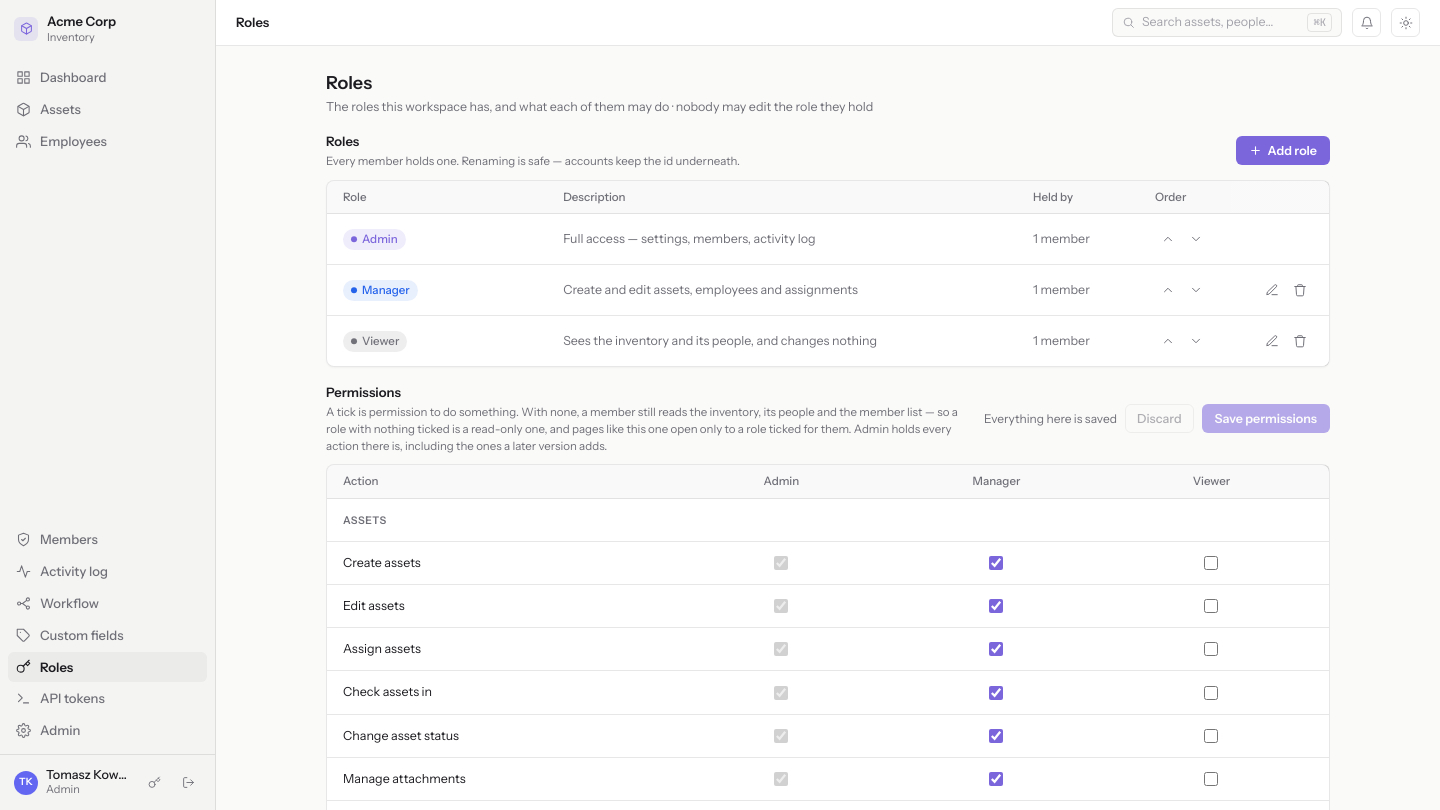
Test: the role form › puts the server’s complaint about a taken label under the field
The image size is (1440, 810).
Click the button "Add role" at (1283, 151), box [1236,136,1330,166]
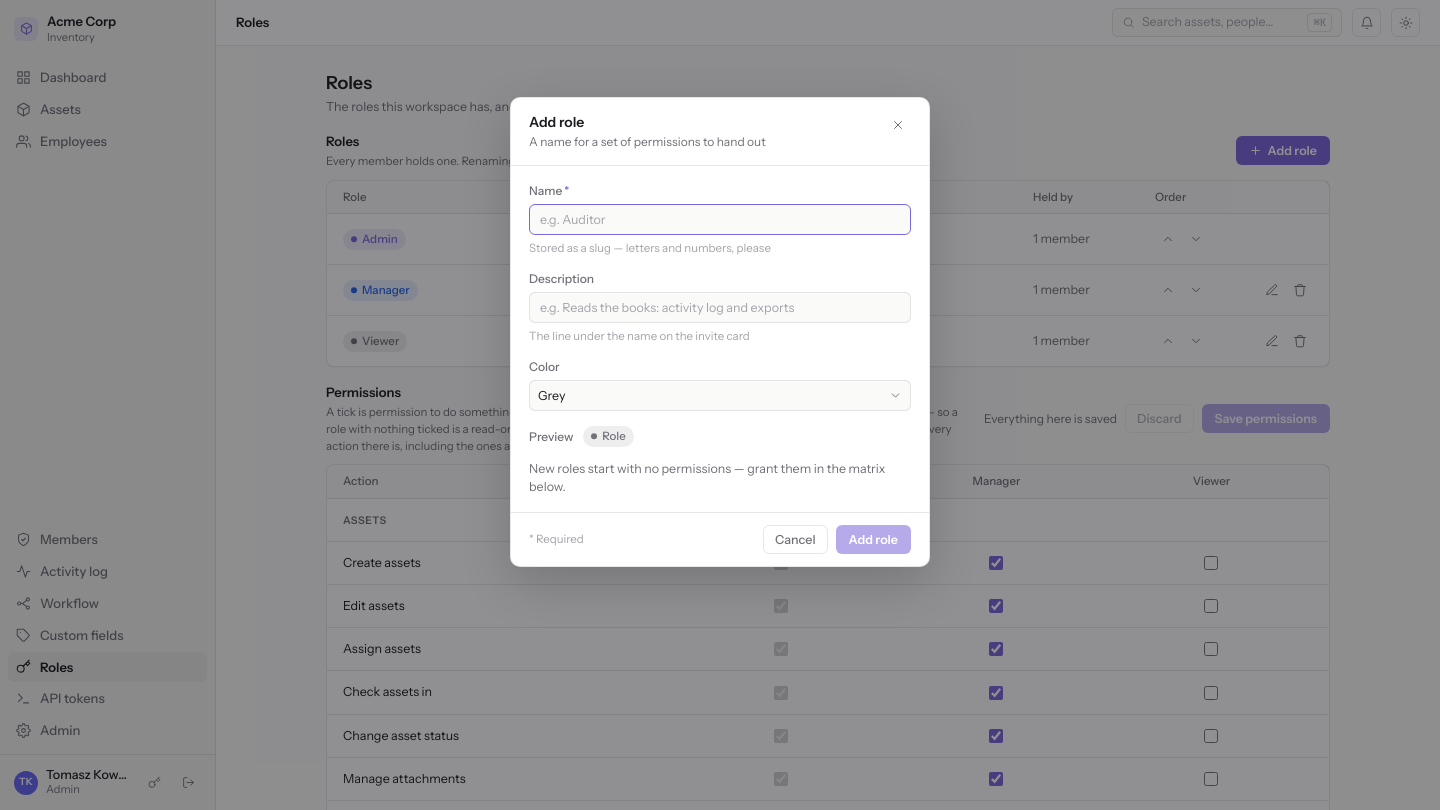
Type "Manager" into the field labelled "Name" at (720, 220), box [529,204,911,235]
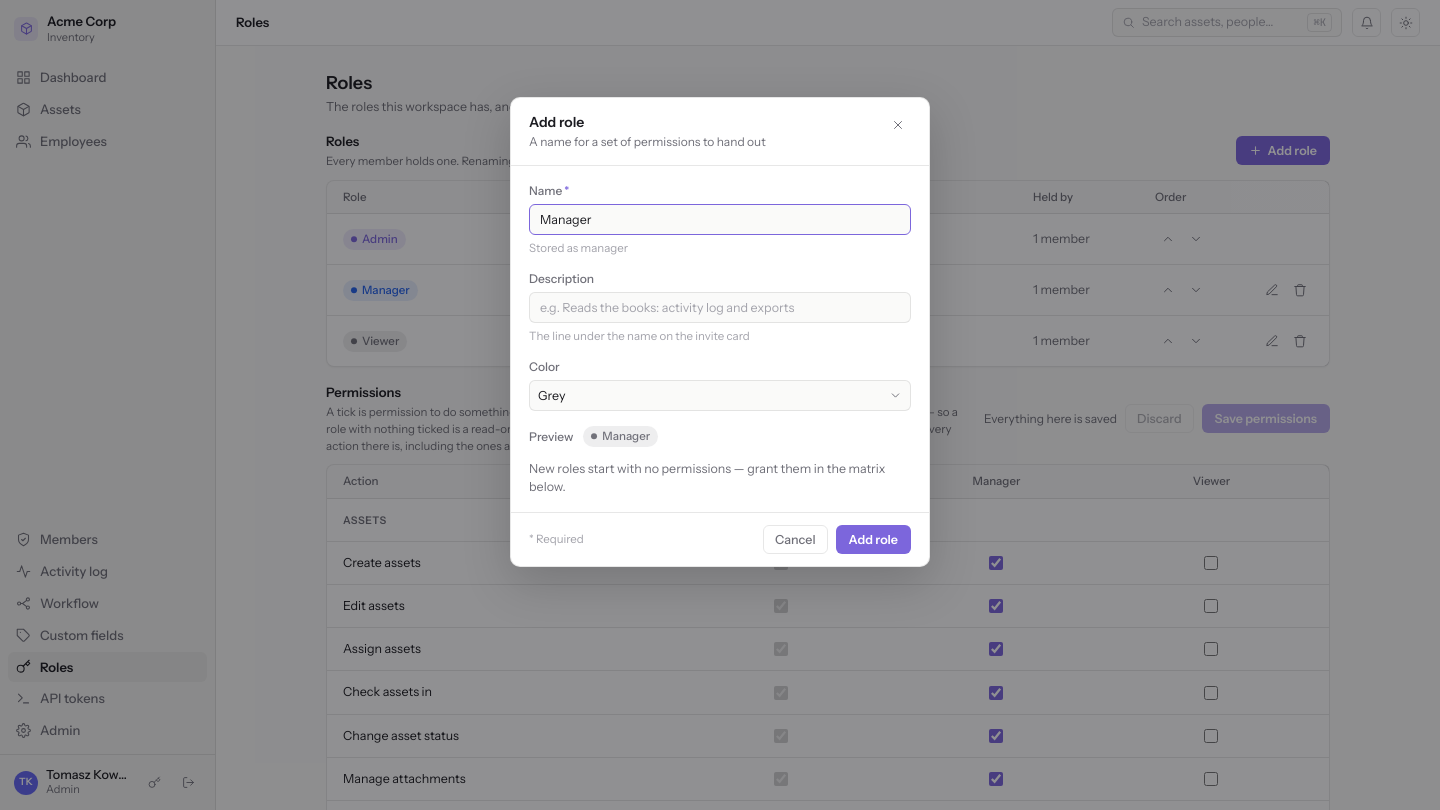
Click the button "Add role" at (873, 540), box [836,525,911,554]
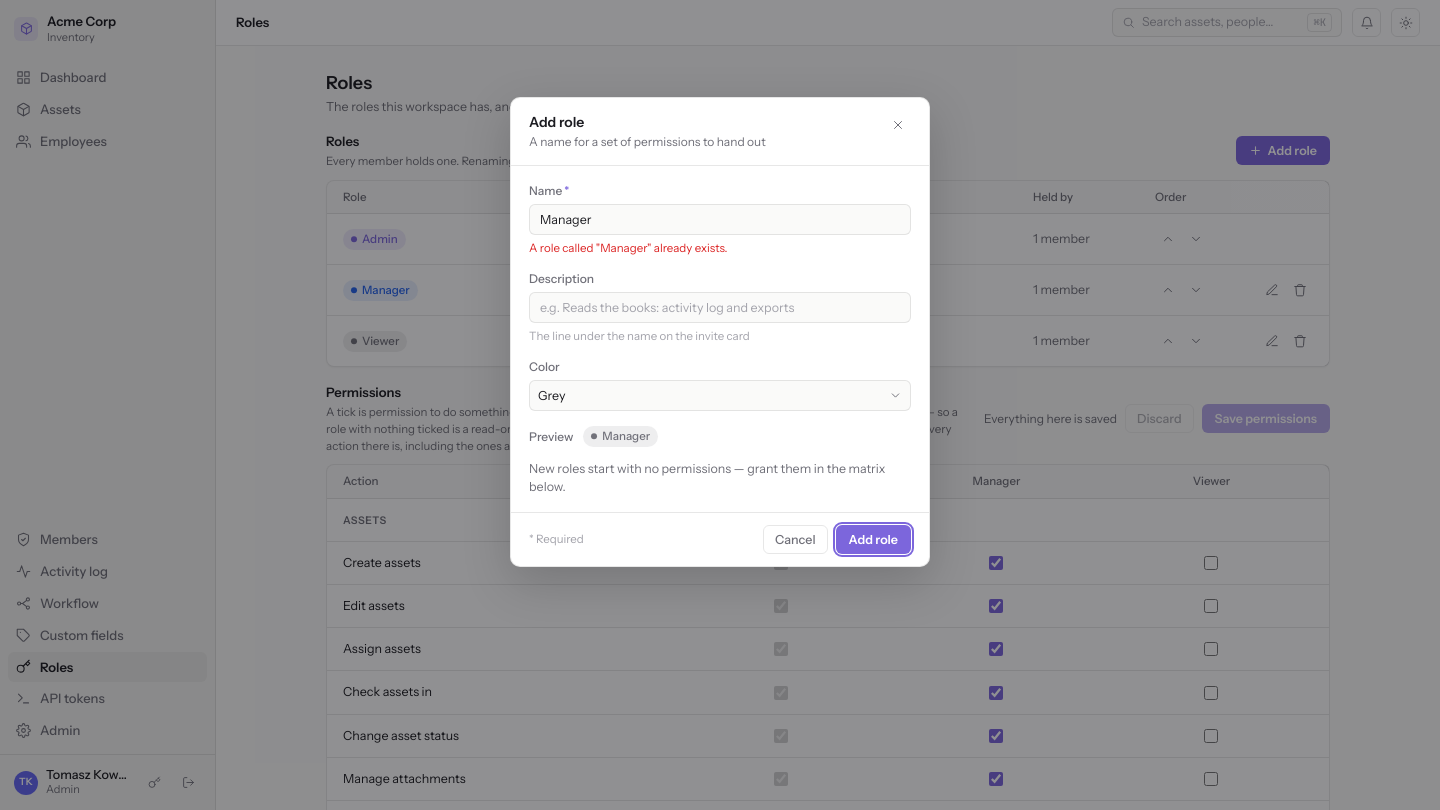
expect the text "A role called \"Manager\" already exists." is shown: met, box [529,241,728,255]
